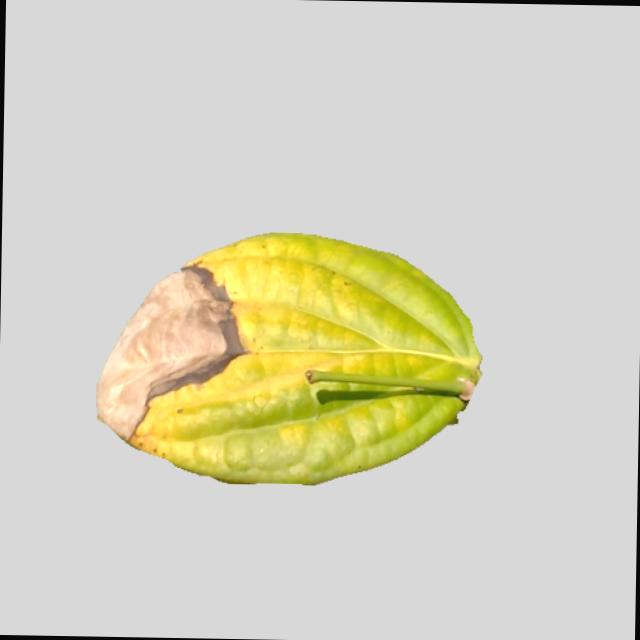leaf-blight: (94, 228, 492, 489)
